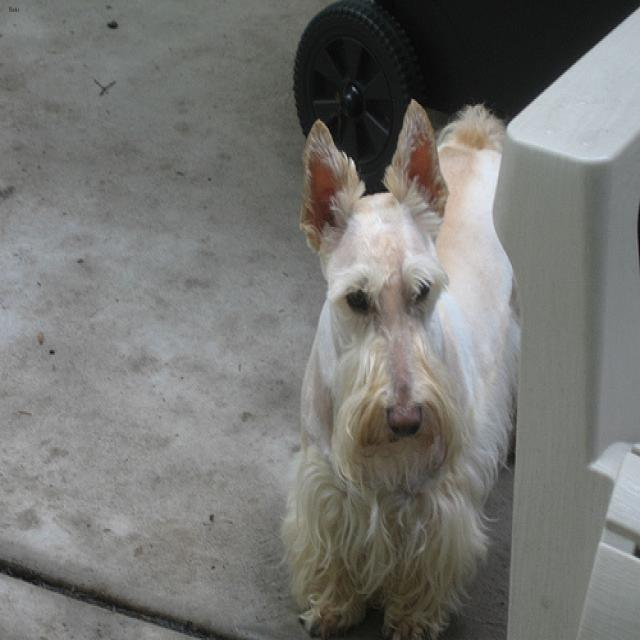dog-scottish_terrier: (275, 87, 526, 637)
